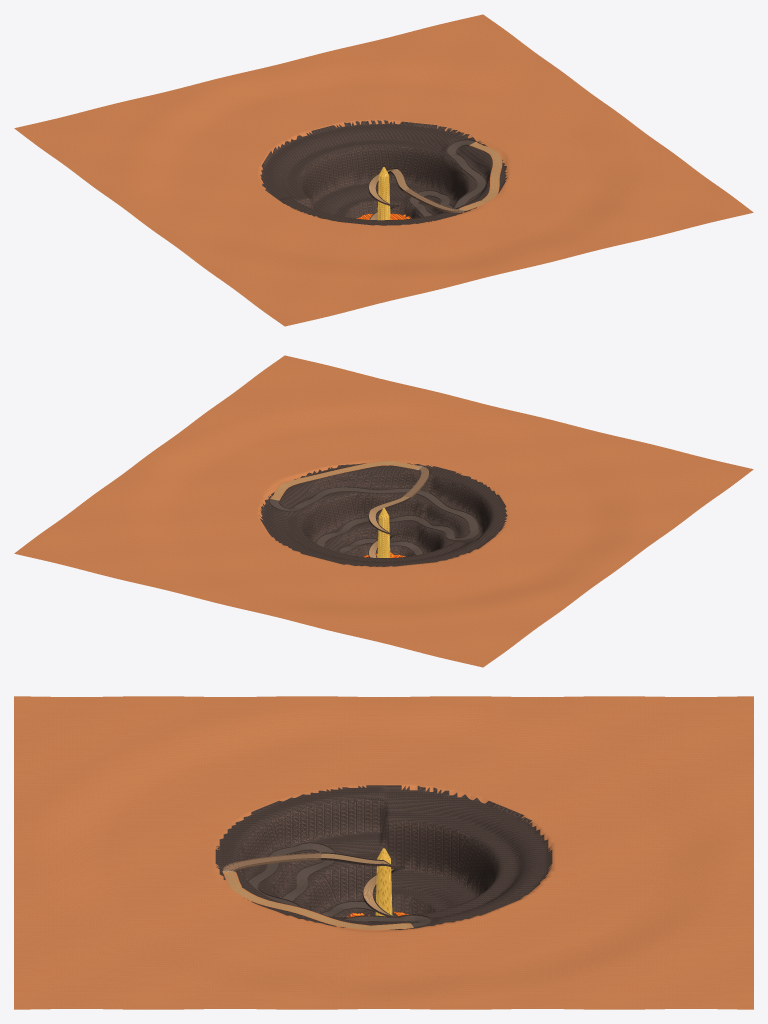
The picture shows the model from 3 angles, top to bottom: view 1: azimuth 30°, elevation 25°; view 2: azimuth 150°, elevation 25°; view 3: azimuth 270°, elevation 25°; orthographic projection. The views are drawn at different scales.
Parts seen in each view (by area): view 1: Land, Road 01 rim, Core Pillar, Road 12 helix; view 2: Land, Road 01 rim, Road 12 helix, Core Pillar; view 3: Land, Road 01 rim, Road 12 helix, Core Pillar, Road 05 ledge, Road 13 bridge, Road 02 ledge.
Boxes of the visible parts, x1,y1,x2,y2 form: Land: [14, 14, 753, 326]; Road 01 rim: [459, 142, 502, 210]; Core Pillar: [377, 167, 390, 220]; Road 12 helix: [368, 168, 410, 219]; Land: [14, 355, 753, 667]; Road 01 rim: [270, 460, 421, 500]; Road 12 helix: [368, 496, 410, 557]; Core Pillar: [377, 508, 390, 557]; Land: [14, 696, 753, 1009]; Road 01 rim: [222, 871, 413, 929]; Road 12 helix: [321, 852, 405, 916]; Core Pillar: [375, 848, 392, 916]; Road 05 ledge: [270, 842, 336, 875]; Road 13 bridge: [223, 852, 321, 871]; Road 02 ledge: [341, 914, 431, 927].
Size of the model in its own units: 1120 by 140 by 1120.
12 materials, 12 textured.
